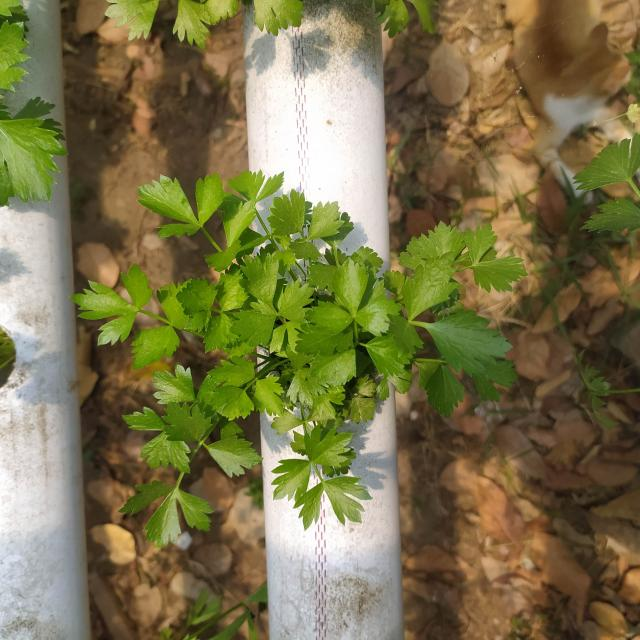Wet Waste: (71, 172, 531, 550)
